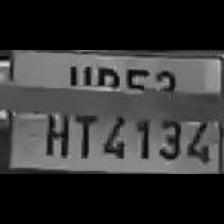1: (127, 108, 153, 162)
3: (152, 110, 182, 160), (147, 63, 179, 99)
4: (97, 106, 129, 160), (182, 113, 212, 163)
5: (120, 61, 150, 94)
H: (38, 105, 70, 157)
T: (70, 106, 96, 158)
